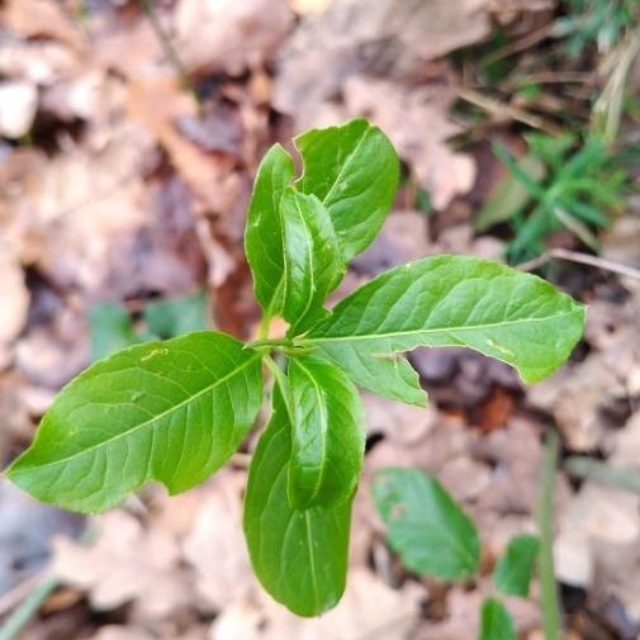obstacle: (43, 129, 582, 602)
